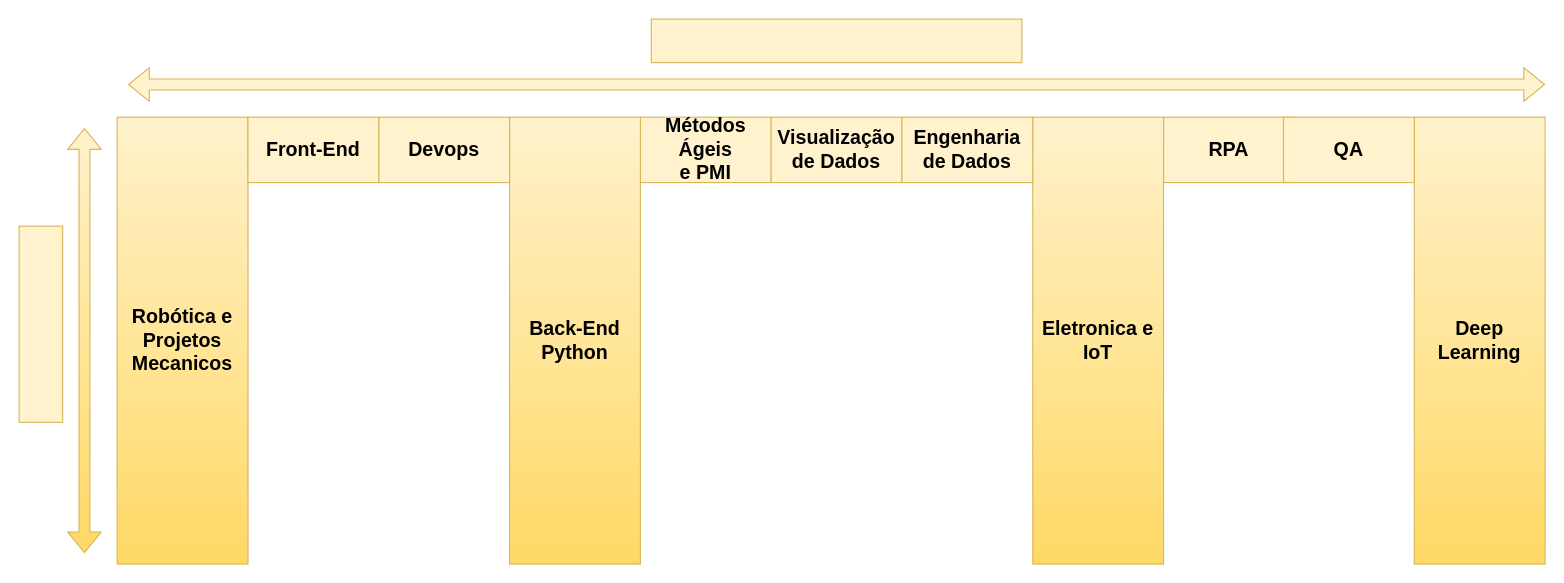
Image size: 1564x583. Some labels were removed from this diagram. The centre of each missing label's shape, as x and y in pixels:
"AMPLO CONHECIMENTO" belongs at point (836, 40).
"ESPECIALISTA" belongs at point (40, 323).
